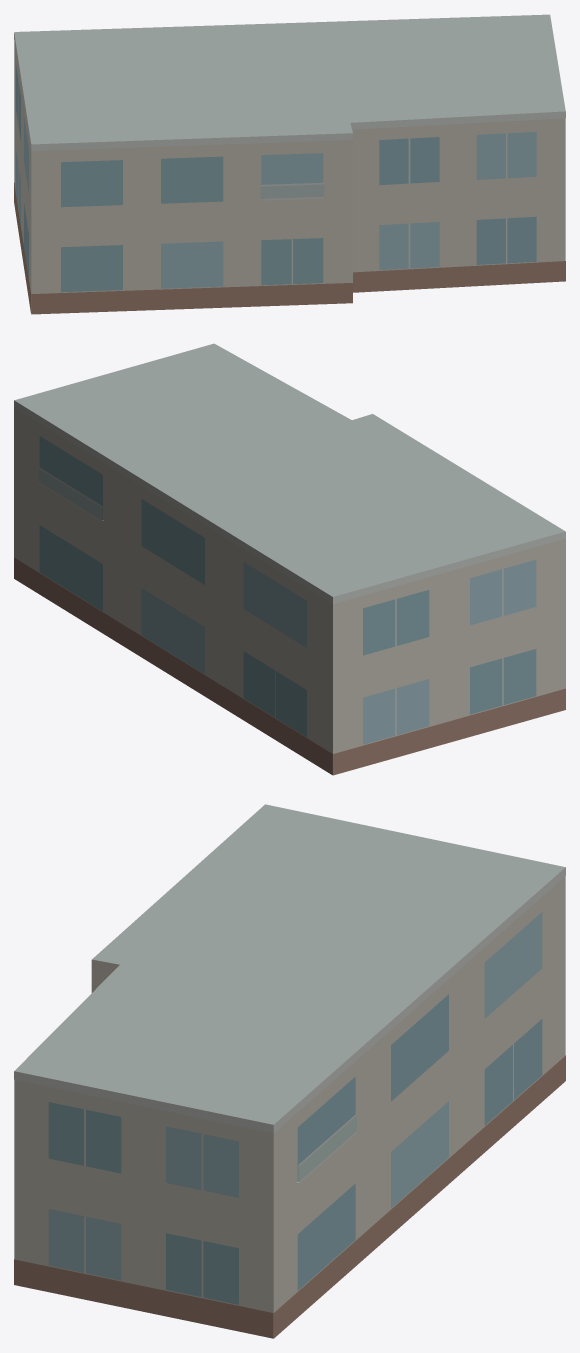
Rendered from survey-upis-32583243.glb.
The picture shows the model from 3 angles, top to bottom: view 1: azimuth 30°, elevation 25°; view 2: azimuth 150°, elevation 25°; view 3: azimuth 270°, elevation 25°; orthographic projection. The views are drawn at different scales.
Visible parts, largest first — view 1: survey-upis-32583243.tmp; view 2: survey-upis-32583243.tmp; view 3: survey-upis-32583243.tmp.
Boxes of the visible parts, x1,y1,x2,y2 form: survey-upis-32583243.tmp: [14, 14, 565, 314]; survey-upis-32583243.tmp: [14, 343, 565, 775]; survey-upis-32583243.tmp: [14, 804, 565, 1338].
Size of the model in its own units: 19.63 by 6.1 by 14.27.
